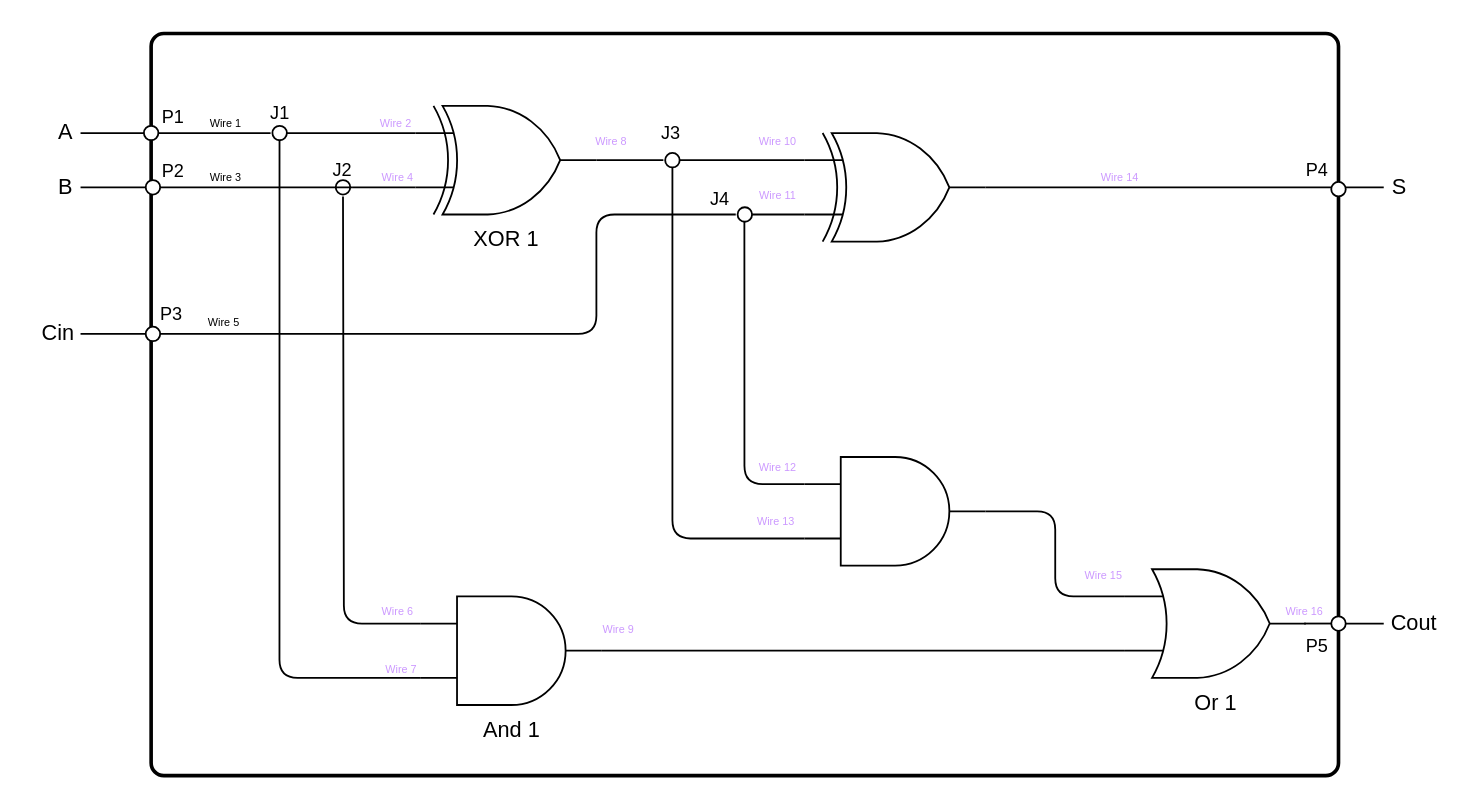
This 1472x807 diagram has some shape labels left out. Here are the shapes that lost their labels. From the top down, the centre of each, then its label:
(894,186): XOR 2
(894,510): And 2
